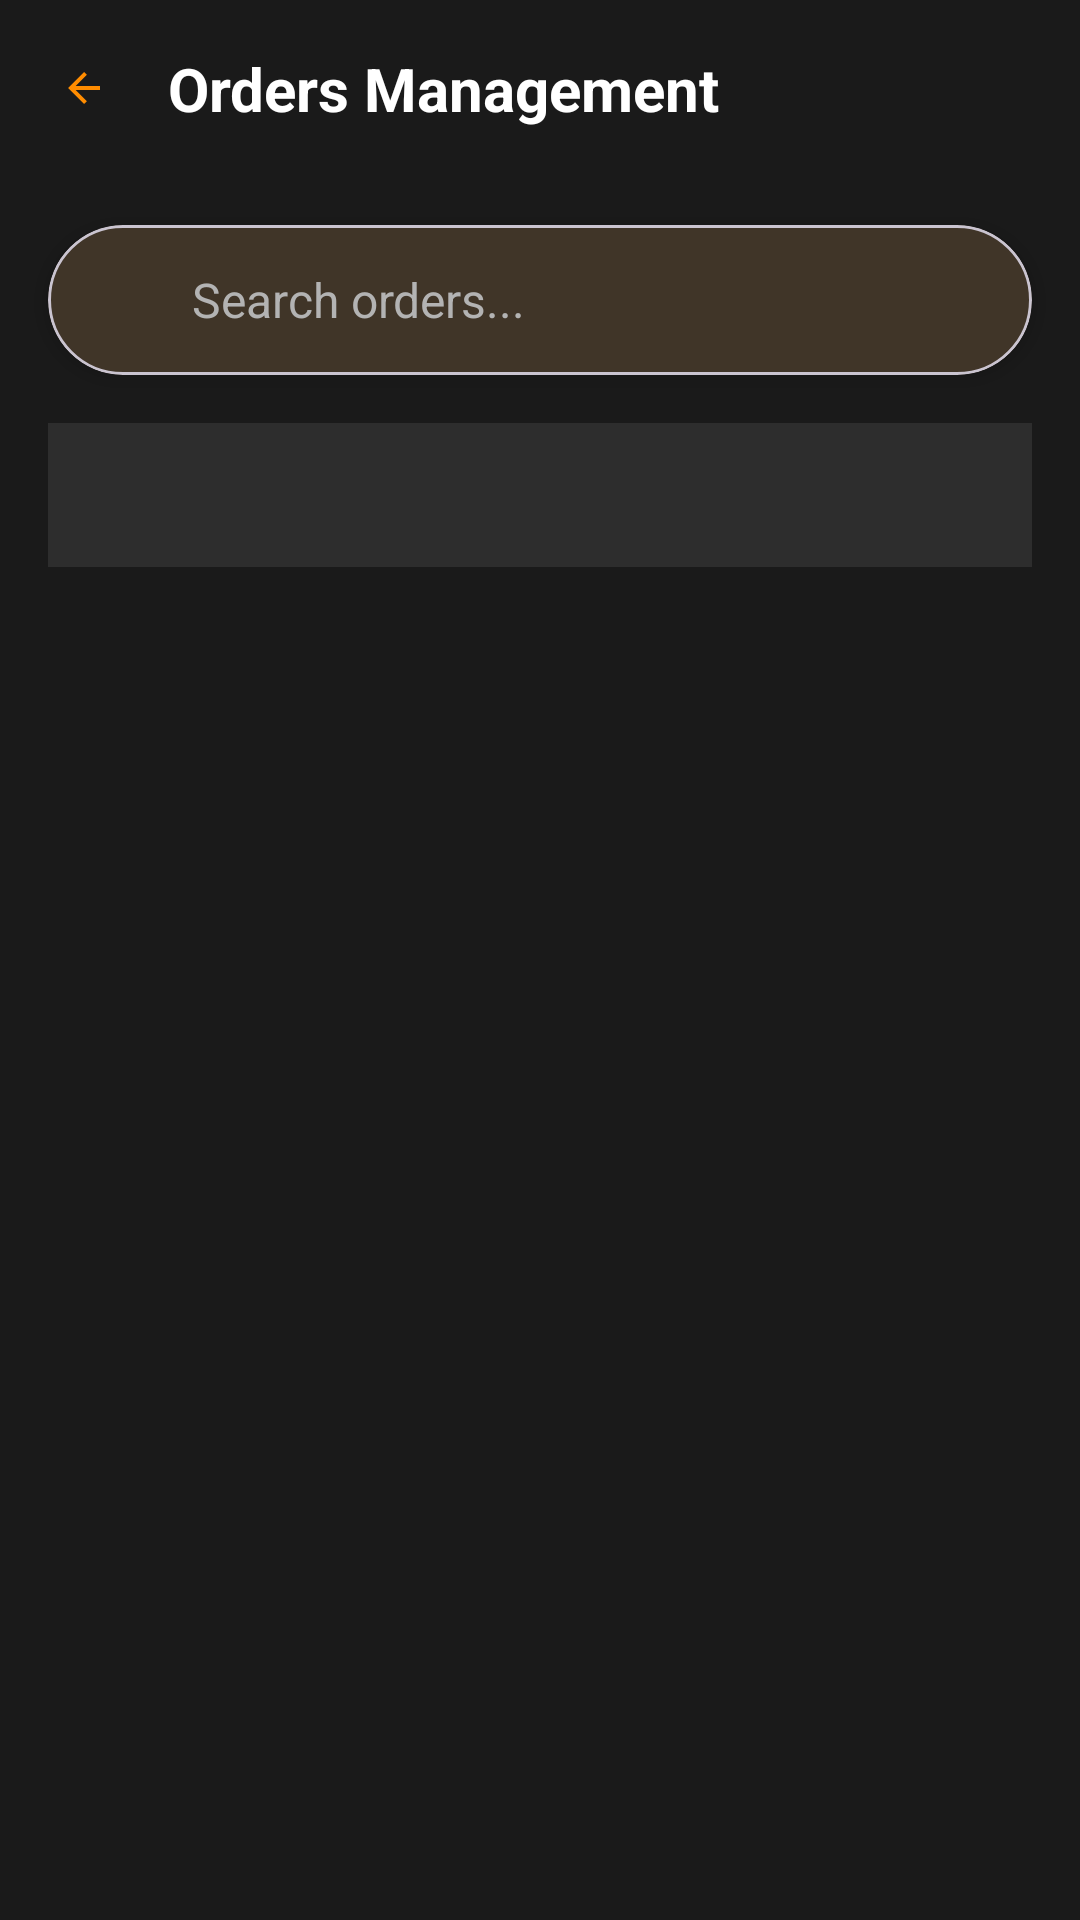

Where icons sit on this 1080 × 1920 app screen, as (x1, y1, x2, y2):
Back Button: (68, 72, 100, 104)
